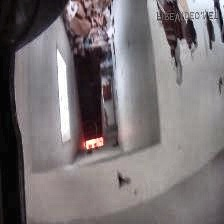fire: (79, 131, 107, 156)
